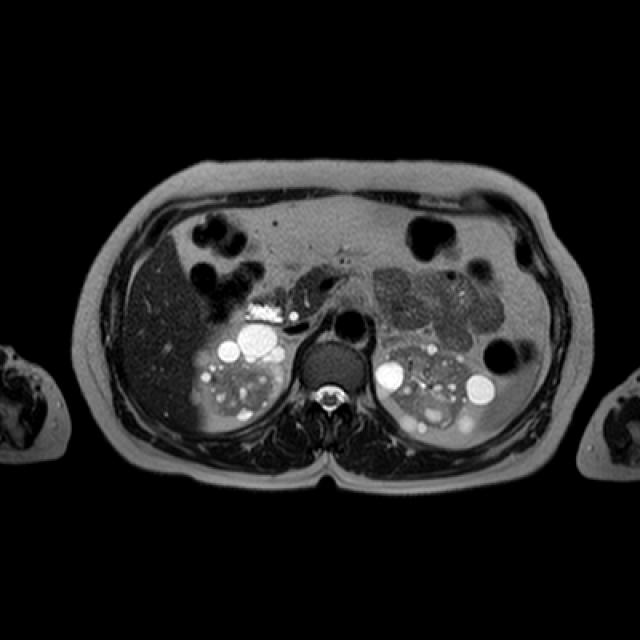sag: (193, 321, 291, 421)
sol: (373, 343, 501, 439)
